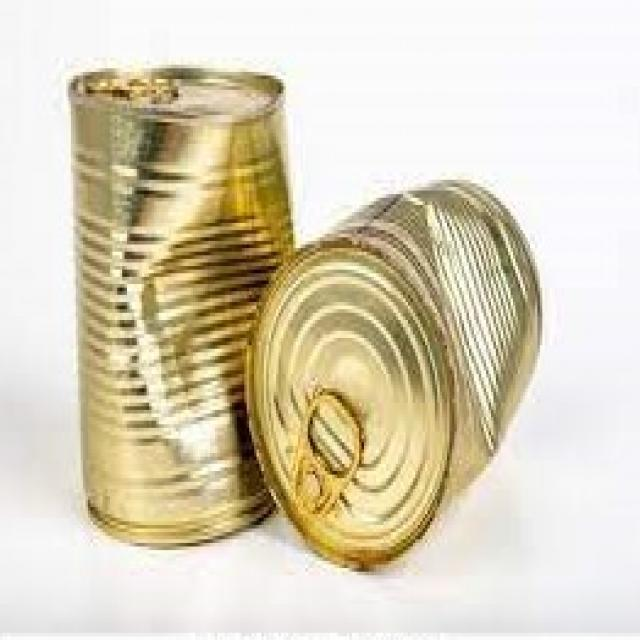metal-can: (248, 172, 552, 580), (63, 64, 299, 552)
